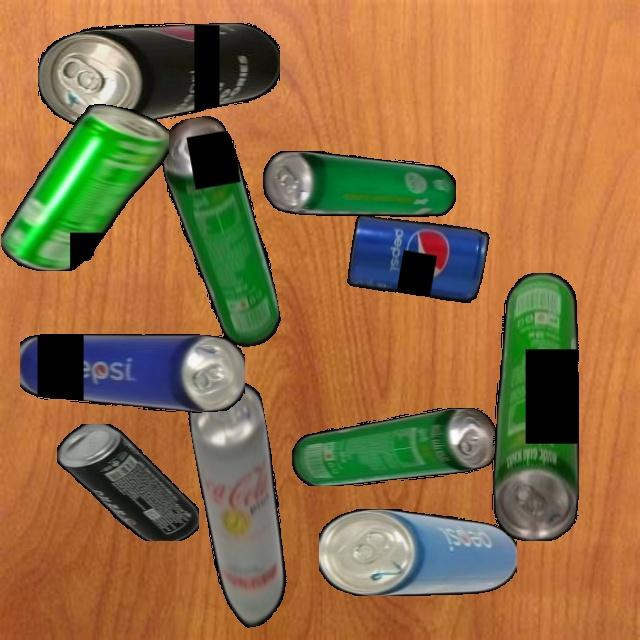debris: (156, 110, 284, 355), (184, 378, 300, 631), (1, 103, 169, 271), (38, 22, 280, 128), (491, 272, 579, 541), (19, 334, 245, 413), (319, 508, 517, 596), (56, 424, 199, 541), (291, 408, 496, 486), (345, 209, 490, 308), (263, 150, 456, 218)
